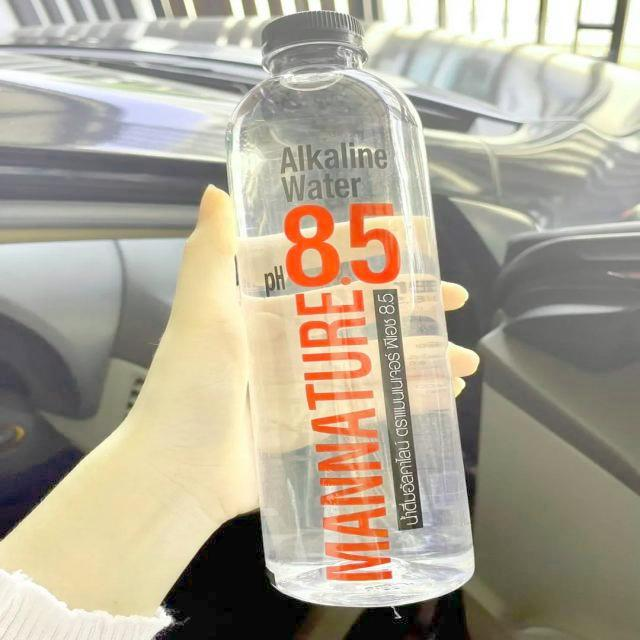bottle: (224, 10, 475, 608)
